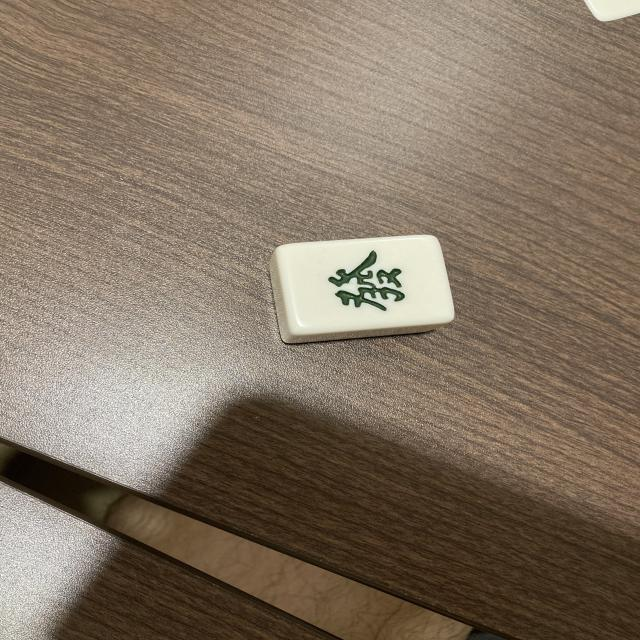fa: (282, 239, 450, 333)
